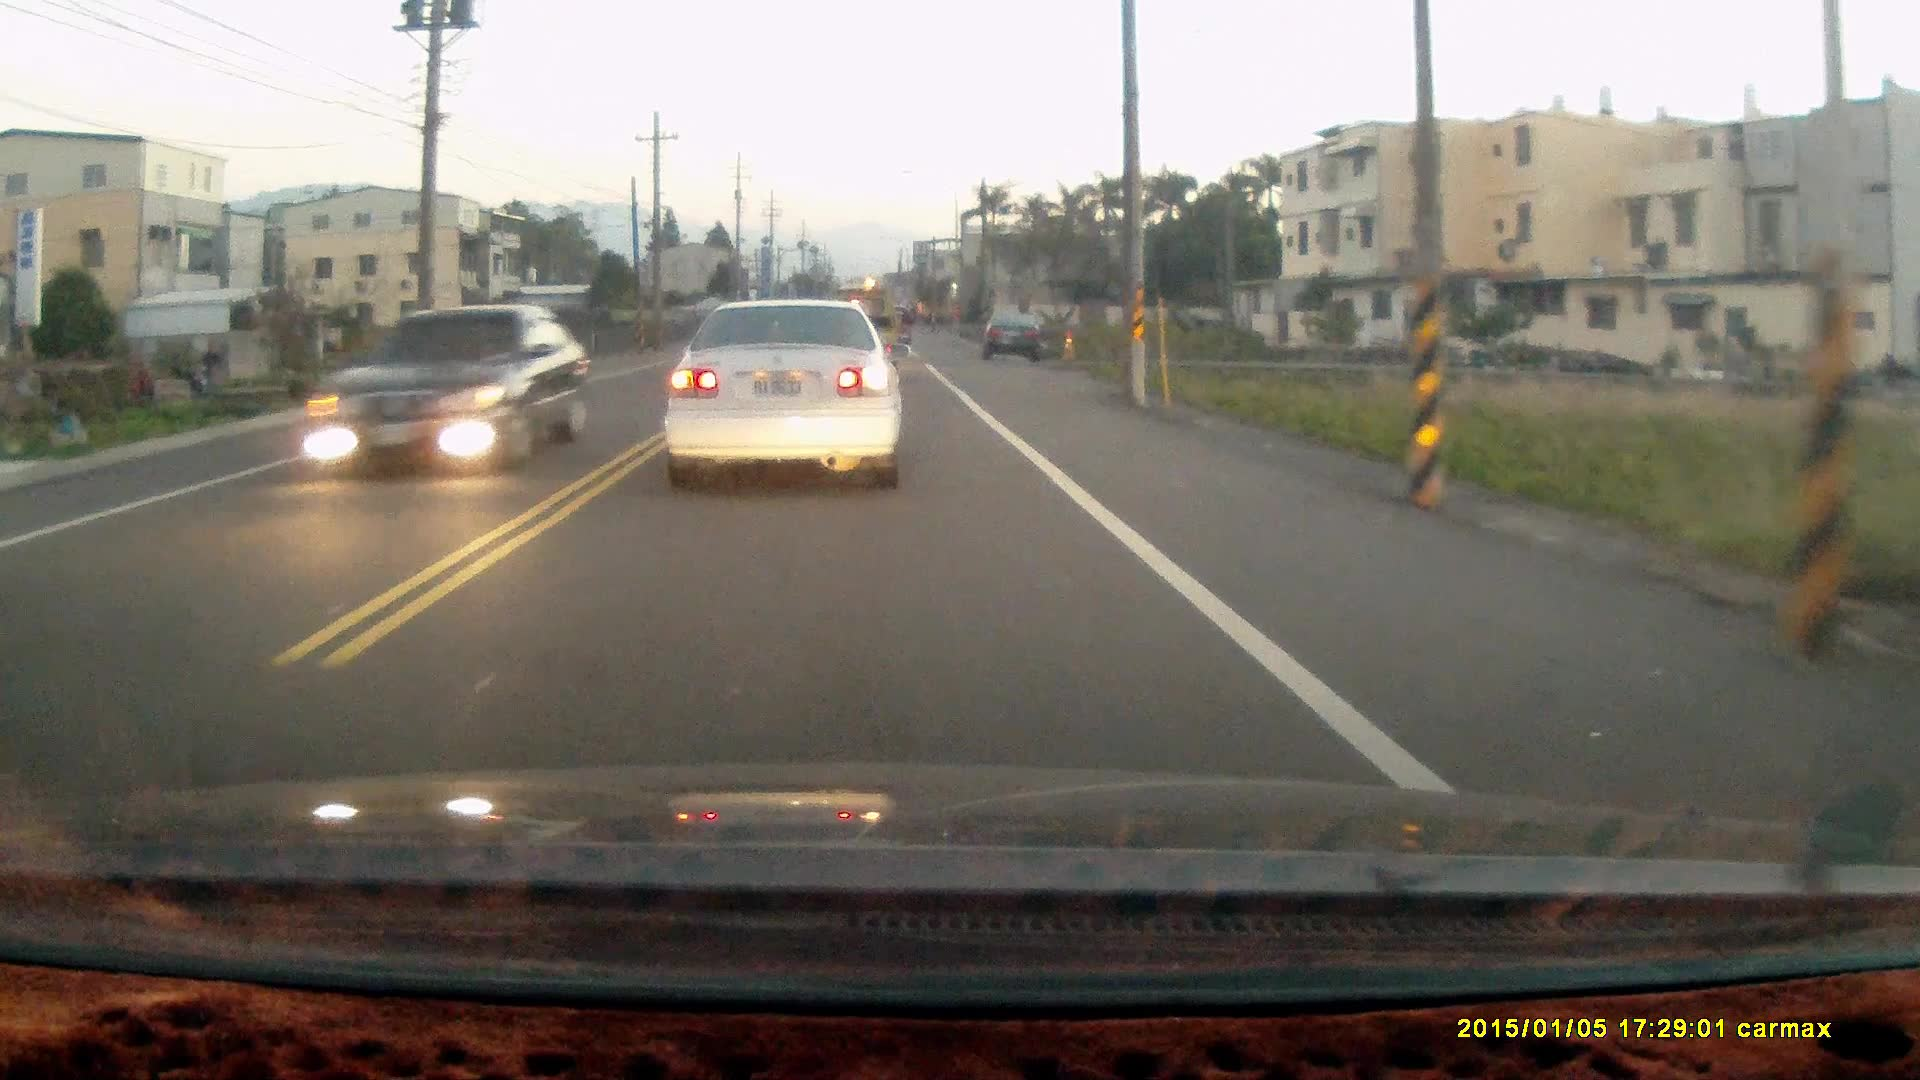pedestrian: (128, 359, 153, 407), (196, 340, 216, 389)
vehicle: (302, 302, 596, 474), (663, 292, 905, 489), (984, 303, 1049, 356)
